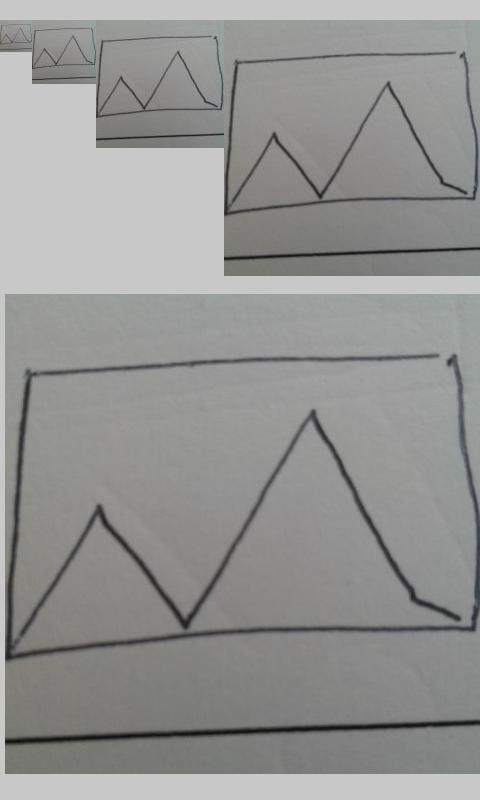image_view: (11, 352, 480, 655), (228, 50, 478, 212), (99, 36, 223, 117), (32, 28, 96, 69), (1, 23, 32, 45)
